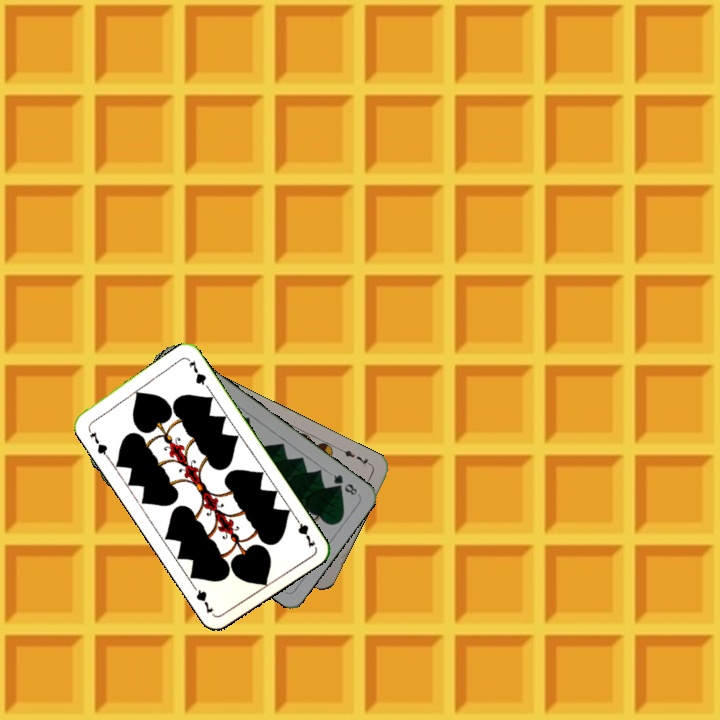E7: (336, 444, 374, 469)
G7: (290, 512, 318, 550), (84, 423, 111, 460)
G8: (329, 470, 360, 498)
